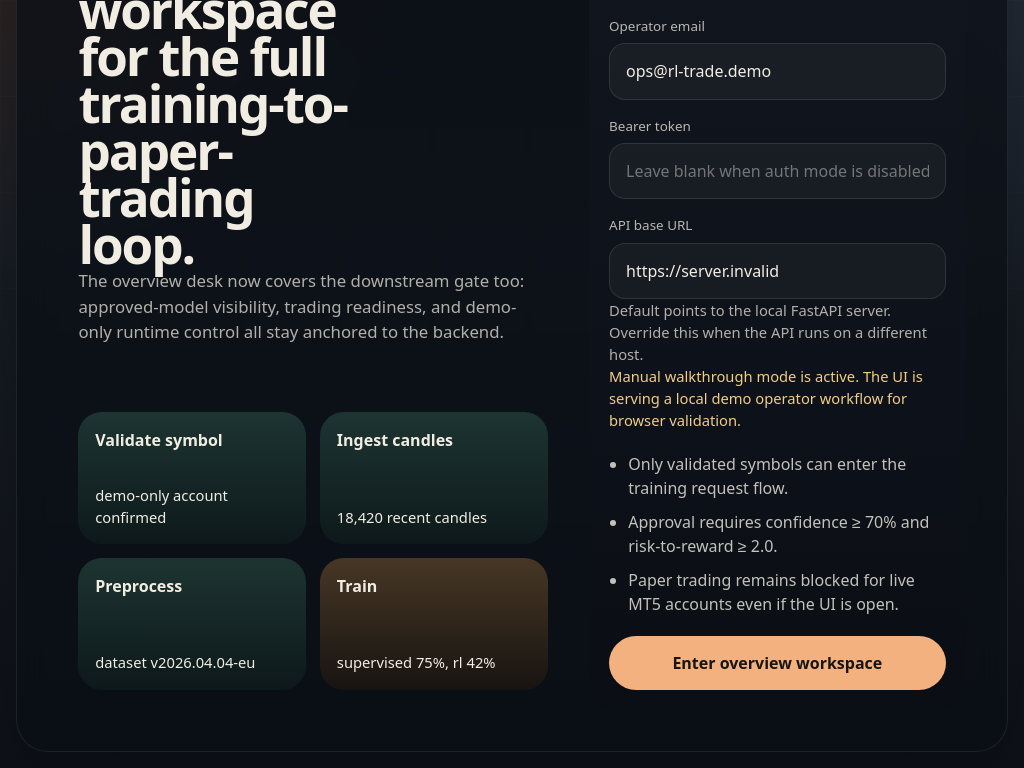
Test case: frontend workspace smoke tests › renders the pipeline view from the workspace hash
(page scrolled)
Click the button "Enter overview workspace".
click(777, 663)  # box [609, 636, 946, 690]
(page scrolled)
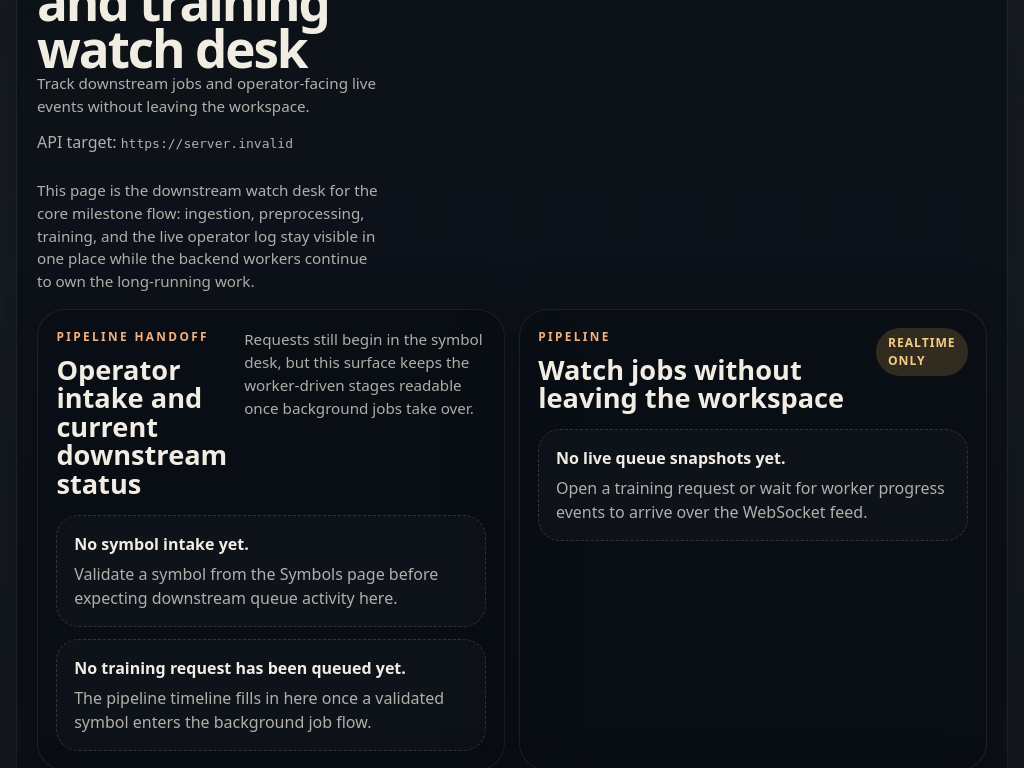
Expected: the heading "Operator intake and current downstream status" is shown, [56, 356, 228, 498]
Expected: the heading "Watch jobs without leaving the workspace" is shown, [538, 356, 860, 413]
